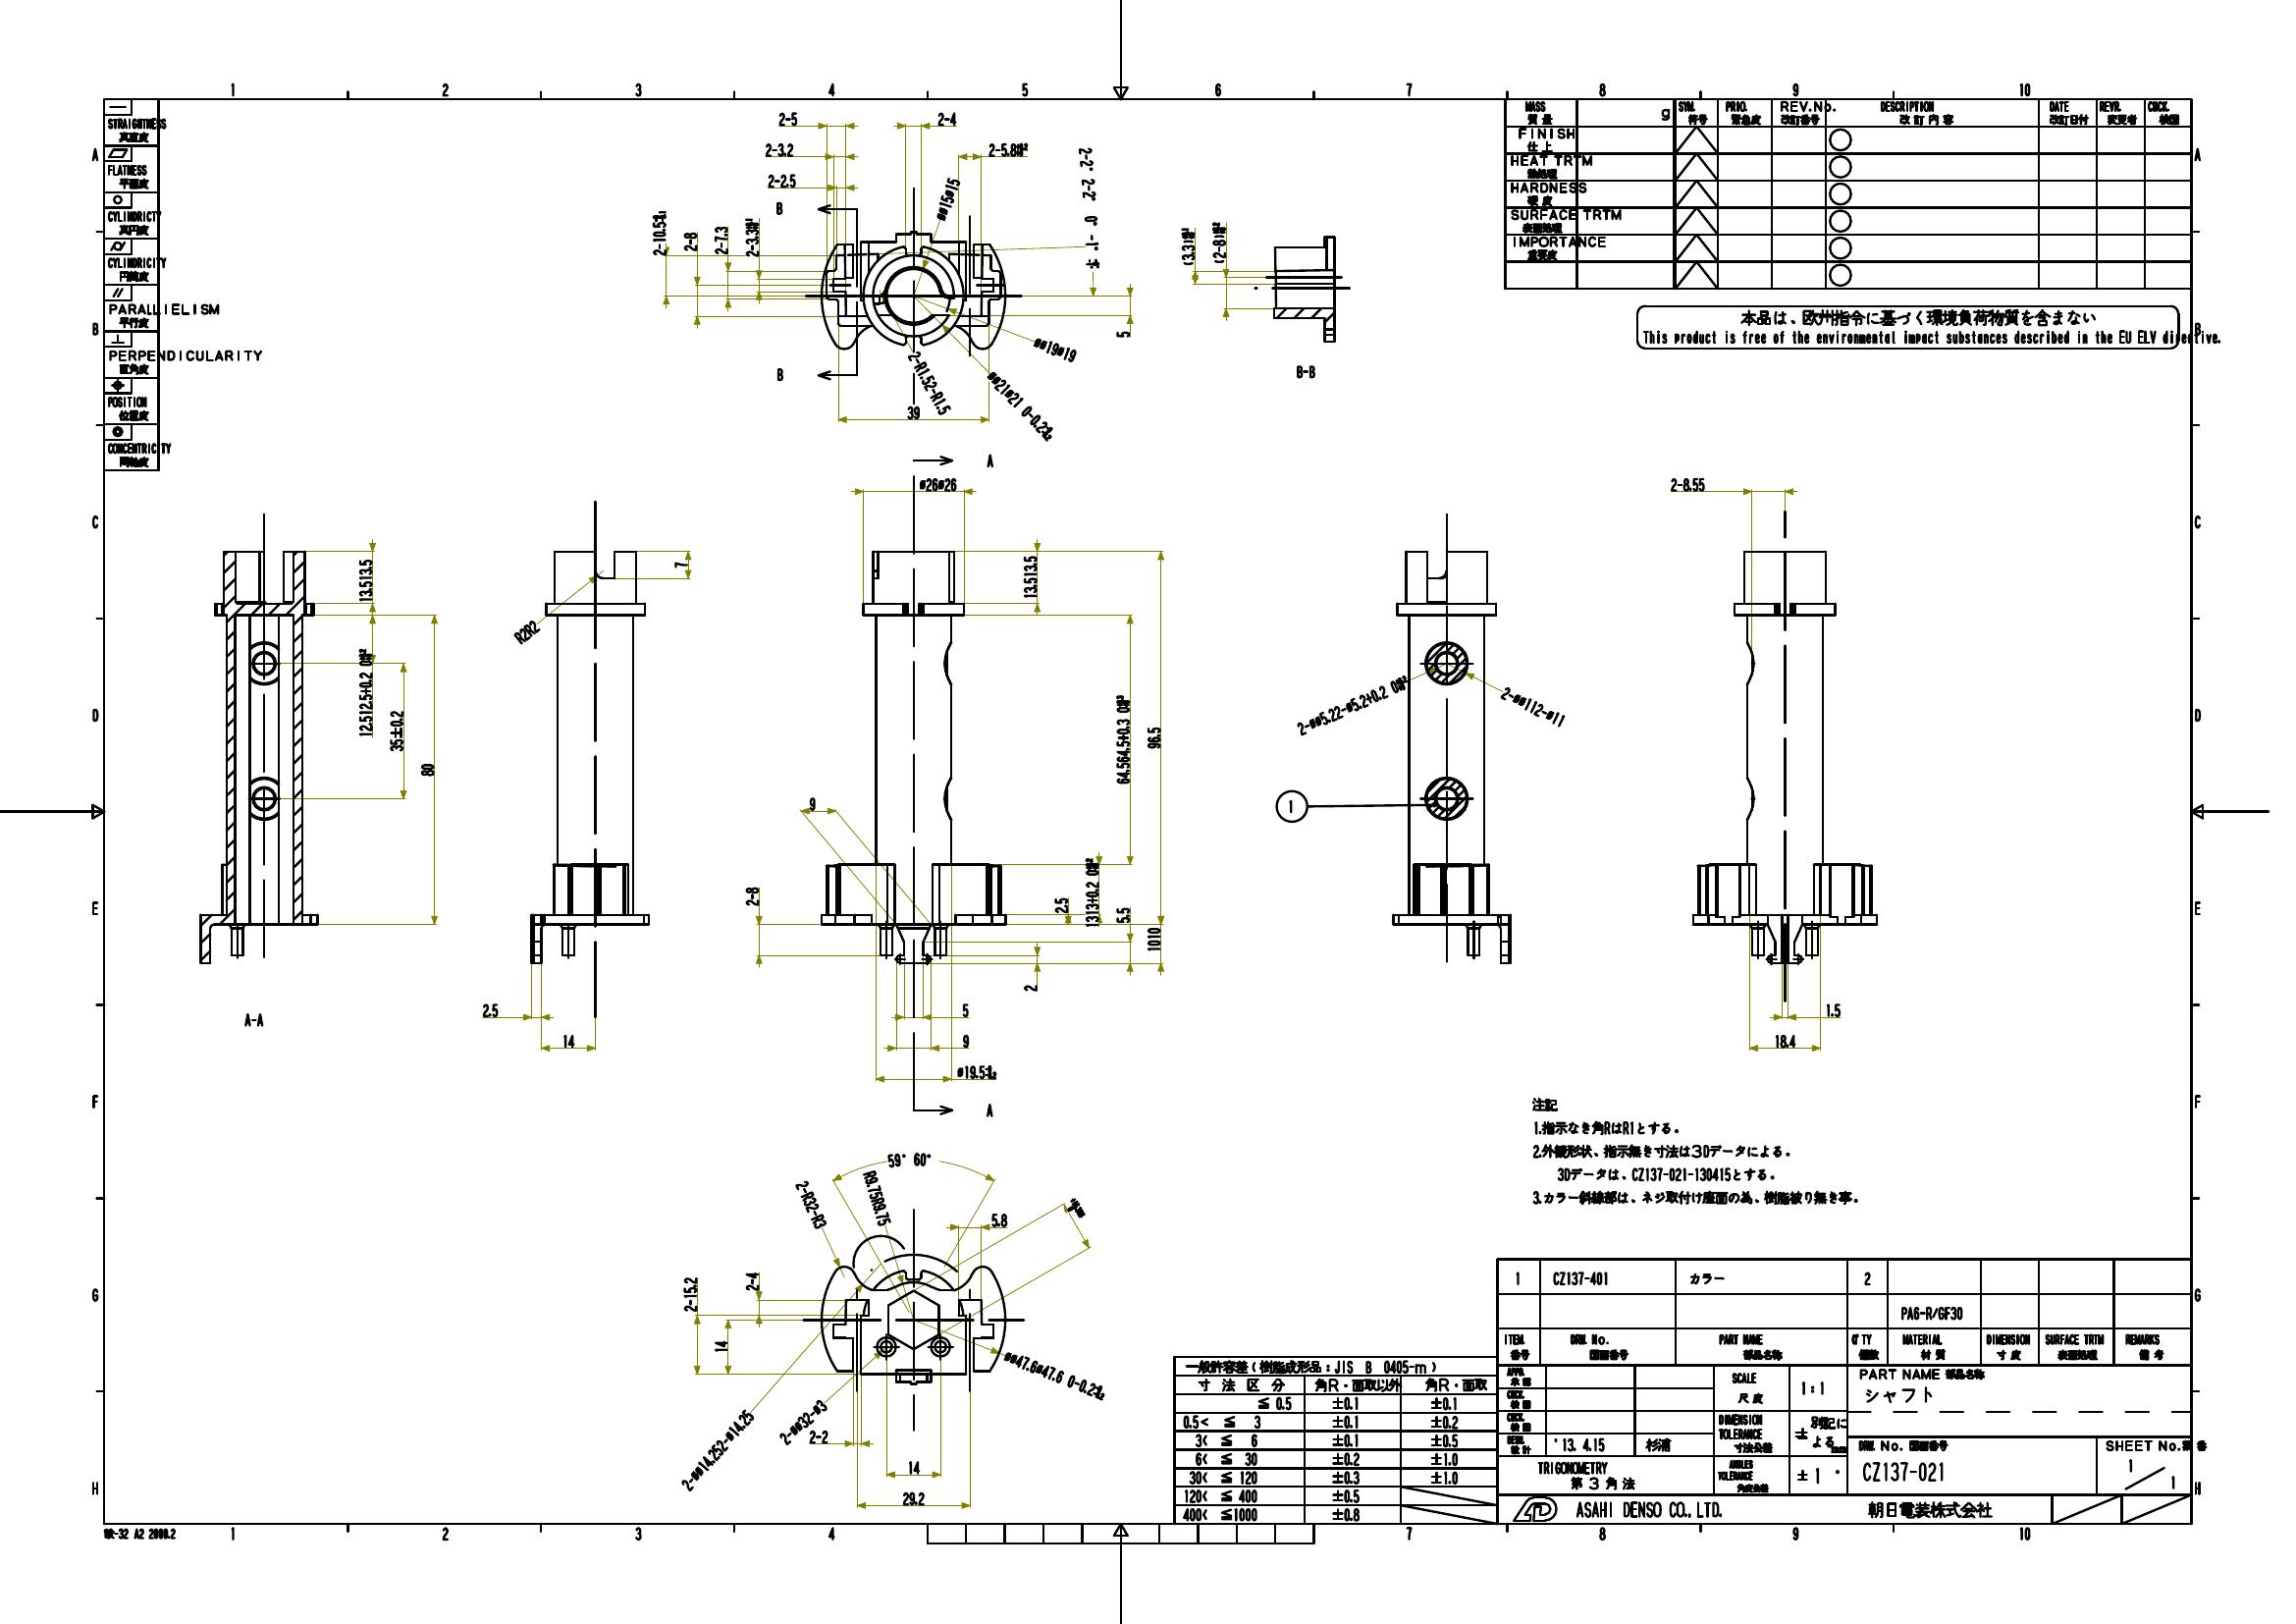anntotation_text: (1530, 1095, 1860, 1206), (1635, 304, 2222, 350), (102, 1526, 177, 1541), (1274, 789, 1307, 823), (1293, 362, 1316, 380), (241, 1011, 264, 1028), (982, 453, 996, 469), (773, 199, 783, 216), (775, 364, 785, 381), (984, 1100, 993, 1118)
dimension_text: (1079, 144, 1101, 269), (1288, 696, 1416, 717), (998, 1366, 1114, 1383), (1112, 692, 1133, 786), (355, 647, 374, 738), (971, 397, 1070, 415), (662, 1443, 771, 1459), (1082, 856, 1101, 930), (1497, 698, 1570, 717), (889, 374, 970, 392), (845, 1188, 906, 1207), (882, 1148, 931, 1169), (782, 1197, 841, 1213), (921, 190, 973, 207), (386, 705, 404, 756), (984, 141, 1029, 160), (1179, 223, 1198, 269), (741, 213, 761, 258), (1021, 552, 1038, 601), (648, 207, 666, 257), (680, 1274, 699, 1318), (1031, 341, 1079, 359), (1210, 218, 1228, 265), (1667, 475, 1708, 494), (357, 555, 372, 605), (915, 475, 959, 492), (710, 223, 731, 257), (954, 1063, 998, 1079), (1142, 719, 1163, 750), (762, 139, 796, 156), (764, 170, 798, 188), (1065, 1195, 1084, 1222), (986, 1209, 1010, 1229), (741, 1269, 761, 1294), (511, 624, 541, 640), (1773, 1032, 1799, 1049), (741, 884, 761, 907), (775, 107, 798, 127), (1145, 924, 1161, 951), (806, 1427, 829, 1445), (680, 230, 697, 253), (898, 1490, 926, 1504), (933, 111, 957, 127), (1114, 905, 1131, 924), (1823, 1000, 1843, 1018), (480, 1000, 499, 1018), (903, 402, 921, 420), (1051, 895, 1066, 914), (711, 1336, 727, 1355), (671, 555, 690, 571), (416, 763, 436, 777), (557, 1033, 576, 1048), (1021, 981, 1040, 993), (1112, 329, 1131, 341), (805, 794, 819, 810), (906, 1457, 919, 1475), (959, 1000, 970, 1018), (959, 1032, 970, 1049)
object: (817, 548, 1008, 965), (1690, 548, 1880, 965), (197, 548, 320, 963), (529, 548, 650, 967), (1393, 548, 1514, 965), (817, 1234, 1008, 1387), (815, 228, 1008, 352), (1270, 234, 1339, 344)
title_block: (1493, 1257, 2192, 1526), (1504, 97, 2194, 290), (1172, 1355, 1498, 1527), (102, 97, 160, 473)
